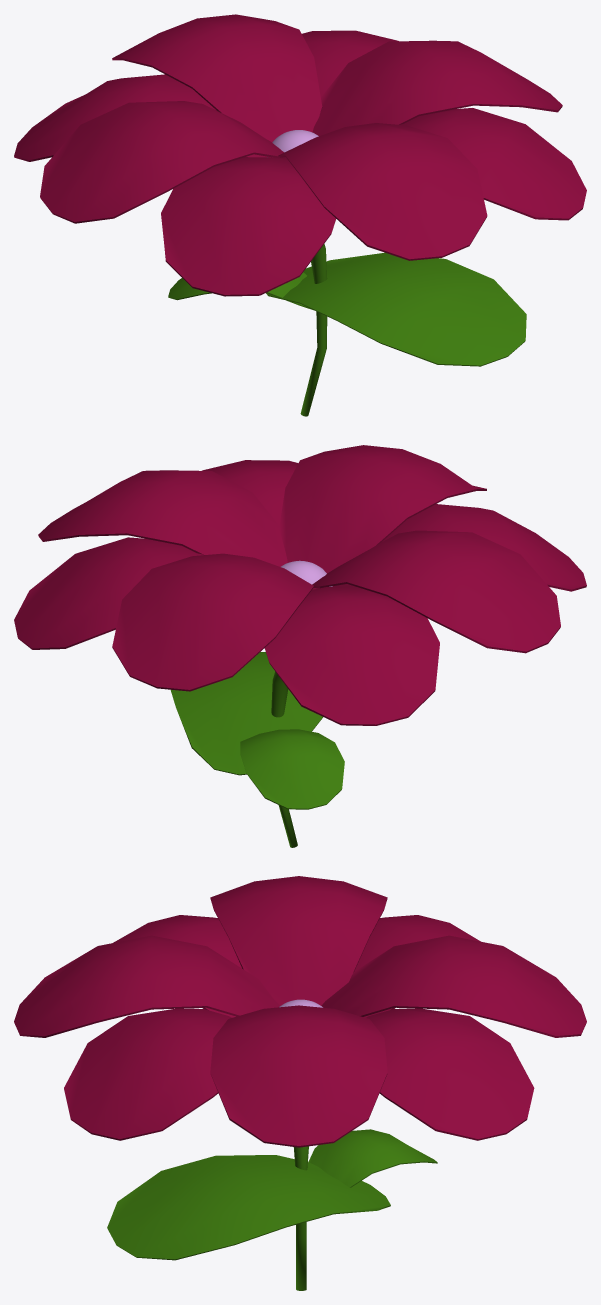
File: flower1.FBX
3 views of the same model, one above another, from view 1: azimuth 30°, elevation 25°; view 2: azimuth 150°, elevation 25°; view 3: azimuth 270°, elevation 25° (orthographic).
Visible parts, largest first — view 1: Plane004, Plane008, Plane093, Plane001, Plane002, Plane003, Plane007, Plane005, Plane006, Cylinder001, Plane094, Sphere001; view 2: Plane002, Plane005, Plane001, Plane004, Plane003, Plane006, Plane093, Plane094, Plane008, Plane007, Cylinder001, Sphere001; view 3: Plane003, Plane093, Plane004, Plane002, Plane001, Plane006, Plane007, Plane094, Plane005, Plane008, Cylinder001.
Boxes of the visible parts, x1=… form: Plane004: x1=278, y1=123, x2=487, y2=260; Plane008: x1=161, y1=157, x2=335, y2=296; Plane093: x1=266, y1=252, x2=526, y2=366; Plane001: x1=40, y1=101, x2=287, y2=223; Plane002: x1=112, y1=14, x2=322, y2=142; Plane003: x1=312, y1=40, x2=562, y2=136; Plane007: x1=399, y1=108, x2=586, y2=220; Plane005: x1=14, y1=74, x2=266, y2=161; Plane006: x1=302, y1=30, x2=398, y2=97; Cylinder001: x1=300, y1=244, x2=327, y2=416; Plane094: x1=168, y1=272, x2=313, y2=310; Sphere001: x1=267, y1=130, x2=318, y2=157; Plane002: x1=112, y1=553, x2=319, y2=691; Plane005: x1=264, y1=586, x2=439, y2=725; Plane001: x1=312, y1=530, x2=560, y2=653; Plane004: x1=279, y1=445, x2=486, y2=573; Plane003: x1=38, y1=470, x2=287, y2=566; Plane006: x1=14, y1=537, x2=203, y2=649; Plane093: x1=170, y1=652, x2=322, y2=775; Plane094: x1=240, y1=729, x2=344, y2=809; Plane008: x1=332, y1=504, x2=586, y2=591; Plane007: x1=202, y1=460, x2=298, y2=525; Cylinder001: x1=271, y1=671, x2=297, y2=847; Sphere001: x1=281, y1=560, x2=332, y2=586; Plane003: x1=210, y1=1005, x2=387, y2=1147; Plane093: x1=107, y1=1155, x2=390, y2=1260; Plane004: x1=14, y1=935, x2=279, y2=1037; Plane002: x1=321, y1=935, x2=586, y2=1037; Plane001: x1=210, y1=876, x2=387, y2=1005; Plane006: x1=366, y1=1008, x2=534, y2=1140; Plane007: x1=64, y1=1008, x2=231, y2=1140; Plane094: x1=308, y1=1129, x2=437, y2=1187; Plane005: x1=354, y1=915, x2=480, y2=1017; Plane008: x1=113, y1=915, x2=241, y2=1017; Cylinder001: x1=293, y1=1146, x2=308, y2=1290.
Bounding box in the file's own units: 53.15 × 34.02 × 52.82.
